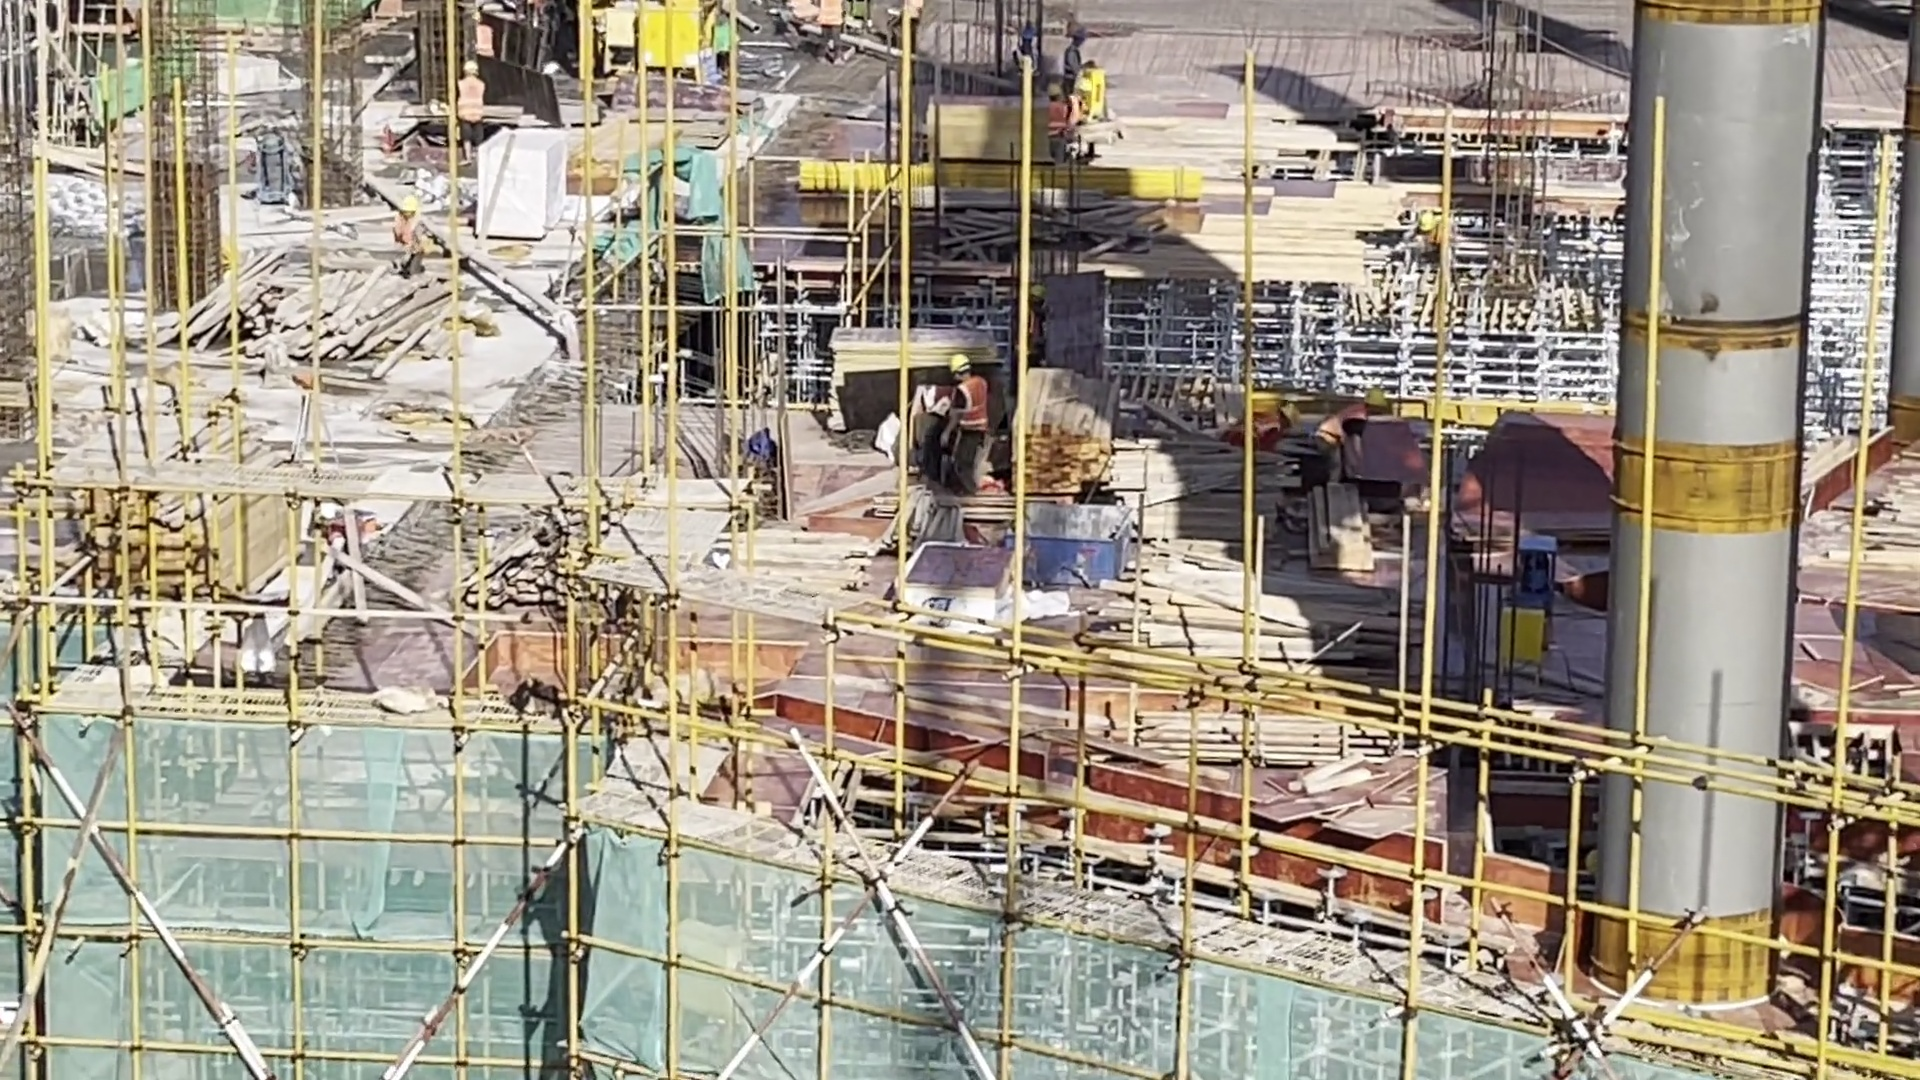helmet: (1358, 385, 1389, 414), (945, 352, 975, 381), (460, 57, 482, 80), (1046, 81, 1065, 106), (1030, 280, 1049, 303), (399, 195, 419, 214)
person: (1312, 381, 1391, 502), (945, 345, 991, 495), (377, 190, 443, 291), (1040, 72, 1083, 181), (1016, 284, 1062, 373), (451, 59, 484, 163), (1064, 23, 1089, 105), (1011, 26, 1038, 83)
vest: (1311, 401, 1368, 462), (949, 376, 990, 444), (390, 218, 433, 270), (456, 74, 482, 135), (1045, 102, 1073, 145)
